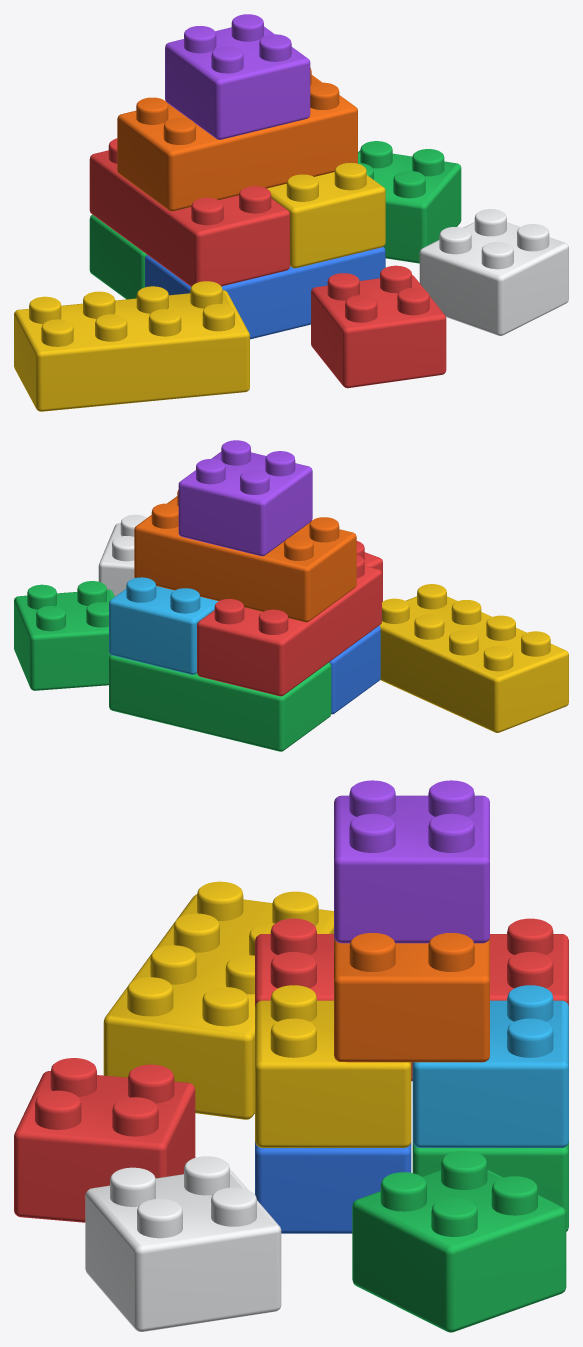
Rendered from build-and-play-blocks.glb.
The picture shows the model from 3 angles, top to bottom: view 1: azimuth 30°, elevation 25°; view 2: azimuth 150°, elevation 25°; view 3: azimuth 270°, elevation 25°; orthographic projection. The views are drawn at different scales.
Parts seen in each view (by area): view 1: brick-2x4 (×5), brick-2x2 (×5); view 2: brick-2x4 (×5), brick-2x2 (×5); view 3: brick-2x2 (×6), brick-2x4 (×5).
Part boxes in pixels (x1,y1,x2,y2): brick-2x4 (×5): [14, 68, 385, 411]; brick-2x2 (×5): [165, 14, 568, 388]; brick-2x4 (×5): [109, 490, 568, 751]; brick-2x2 (×5): [14, 440, 382, 690]; brick-2x2 (×6): [14, 780, 568, 1332]; brick-2x4 (×5): [103, 881, 568, 1233].
Size of the model in its own units: 0.1716 by 0.0815 by 0.1126.
